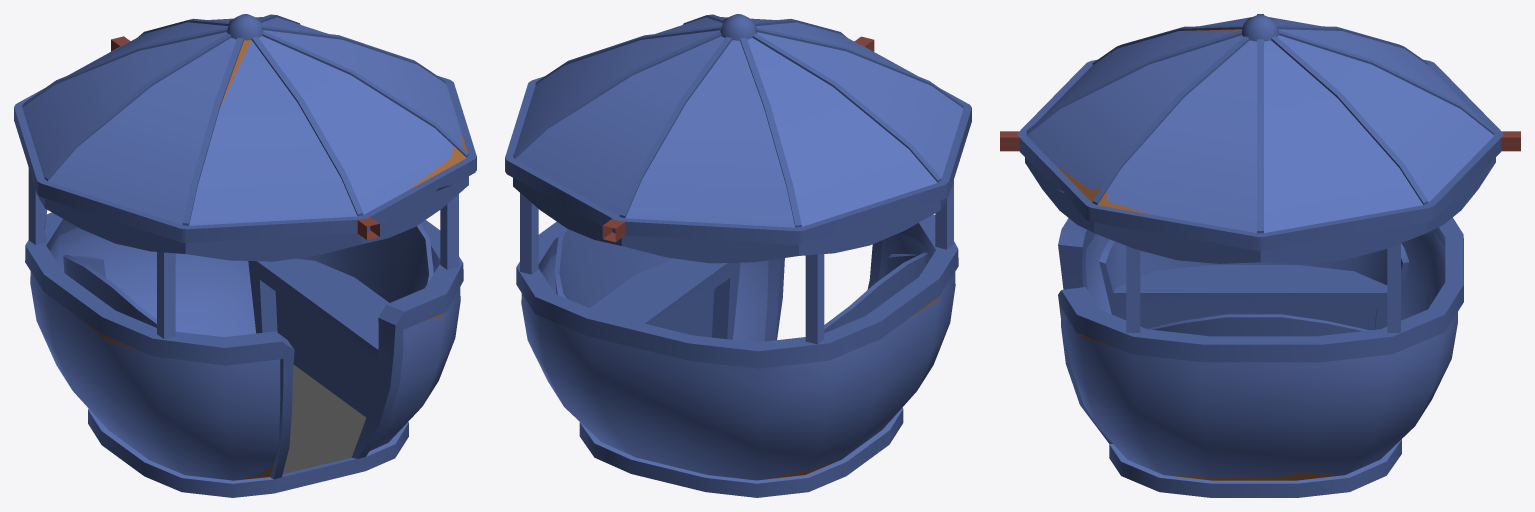
Rendered from SM_Props_Park_02_Cabin_07.fbx.
3 renders of one model, left to right at view 1: azimuth 30°, elevation 25°; view 2: azimuth 150°, elevation 25°; view 3: azimuth 270°, elevation 25°, orthographic.
Visible parts, largest first — view 1: SM_Props_Park_02_Cabin_07; view 2: SM_Props_Park_02_Cabin_07; view 3: SM_Props_Park_02_Cabin_07.
Part boxes in pixels (<box>): SM_Props_Park_02_Cabin_07: <box>14,14,476,497</box>; SM_Props_Park_02_Cabin_07: <box>505,14,971,497</box>; SM_Props_Park_02_Cabin_07: <box>1000,14,1520,497</box>.
Size of the model in its own units: 3.17 by 3.02 by 3.4.
